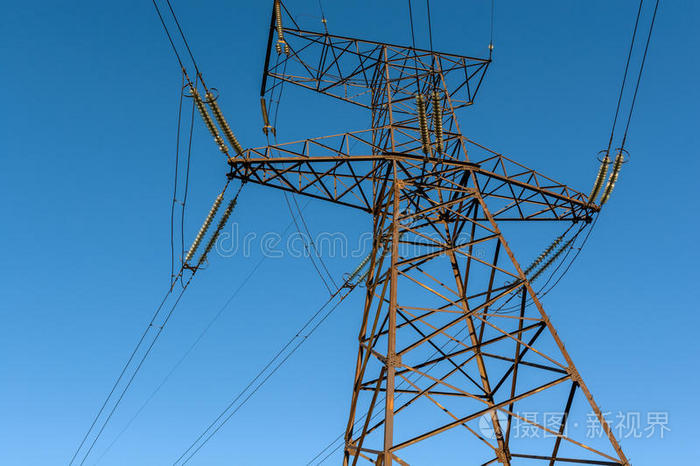insulator: (186, 195, 236, 266), (193, 88, 242, 158), (525, 236, 569, 278), (587, 152, 623, 200), (419, 92, 446, 155), (273, 1, 287, 39)
